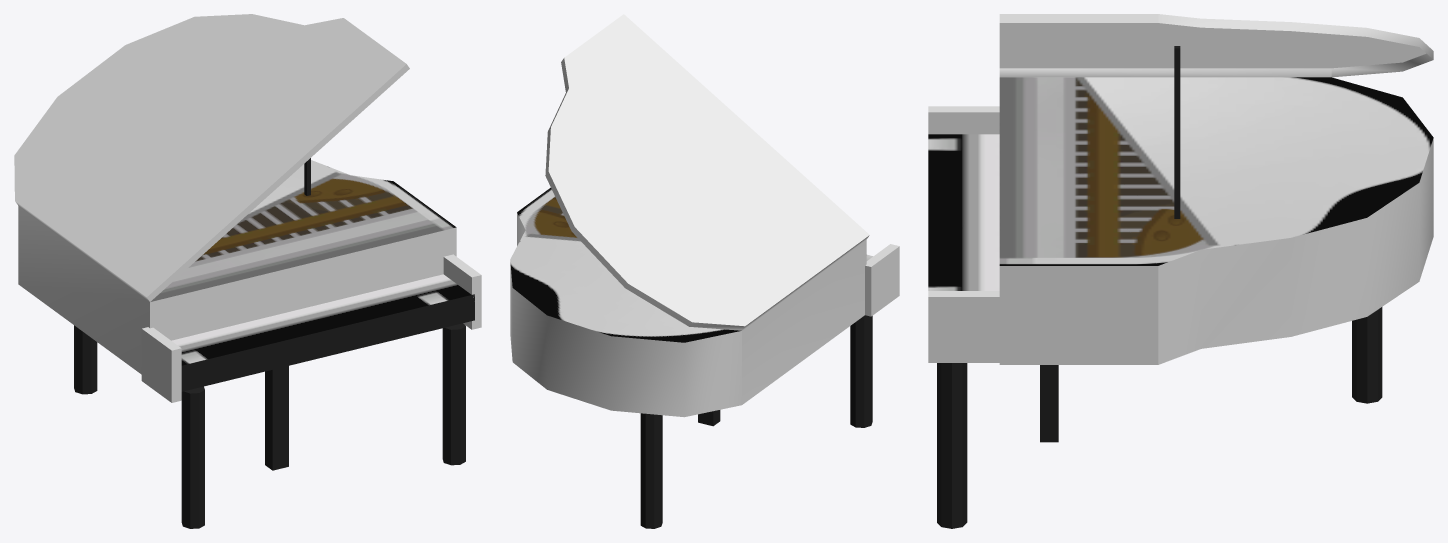
The model's file is Building_Piano.obj.
The picture shows the model from 3 angles, left to right: view 1: azimuth 30°, elevation 25°; view 2: azimuth 150°, elevation 25°; view 3: azimuth 270°, elevation 25°; orthographic projection. The views are drawn at different scales.
Parts seen in each view (by area): view 1: Body; view 2: Body; view 3: Body.
Boxes of the visible parts, x1,y1,x2,y2 form: Body: (14,14,481,528); Body: (510,14,899,528); Body: (928,14,1433,528).
Size of the model in its own units: 1.5 by 1.78 by 1.66.
1 material, 1 textured.
